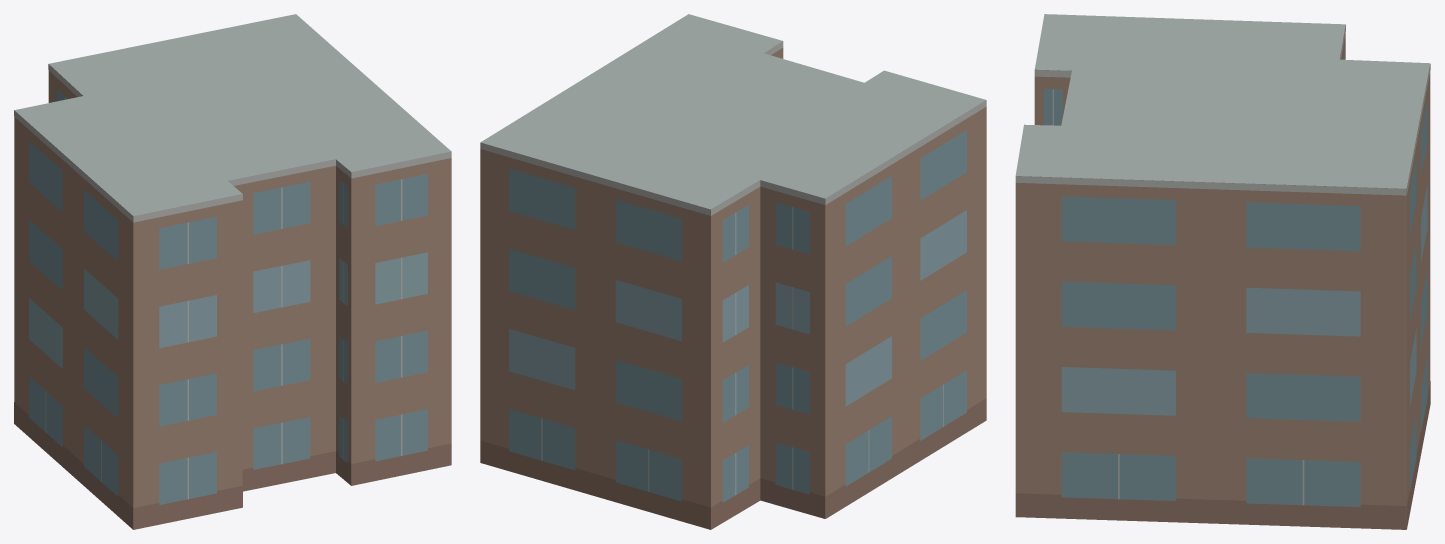
File: survey-upis-32832338.glb
The picture shows the model from 3 angles, left to right: view 1: azimuth 30°, elevation 25°; view 2: azimuth 150°, elevation 25°; view 3: azimuth 270°, elevation 25°; orthographic projection. The views are drawn at different scales.
Visible parts, largest first — view 1: survey-upis-32832338.tmp; view 2: survey-upis-32832338.tmp; view 3: survey-upis-32832338.tmp.
Part boxes in pixels (bbox=[...]): survey-upis-32832338.tmp: bbox=[14, 14, 451, 529]; survey-upis-32832338.tmp: bbox=[480, 14, 986, 529]; survey-upis-32832338.tmp: bbox=[1015, 14, 1430, 529].
Size of the model in its own units: 13.3 by 12.1 by 13.35.
